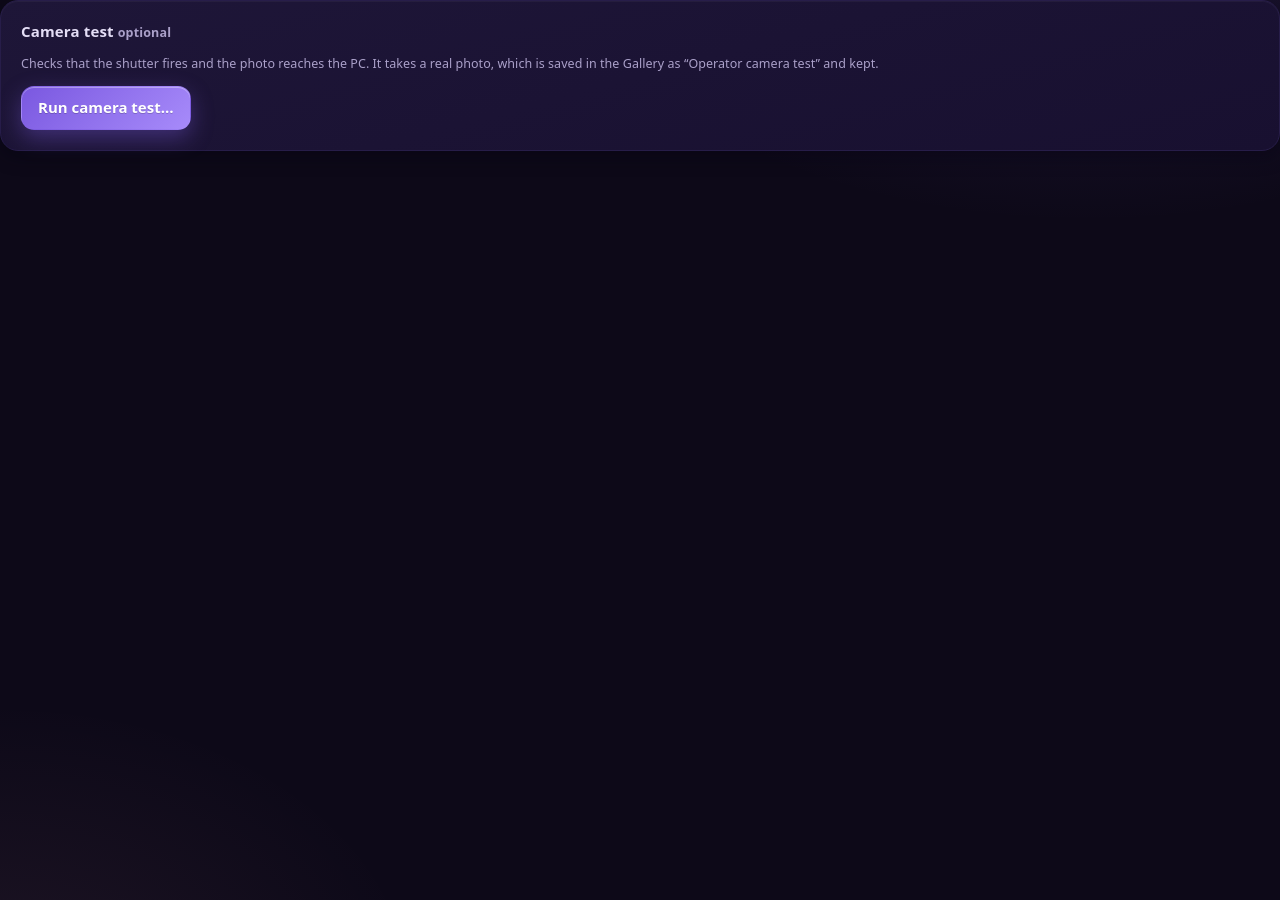
Test: camera test › tells the operator the shutter will fire, and does nothing until they agree
Later steps or results of the test are not shown.
What coordinates should you click on to do the following:
click the button "Run camera test…"
I would click on:
 (106, 108)
Its box is [21,86,190,130].
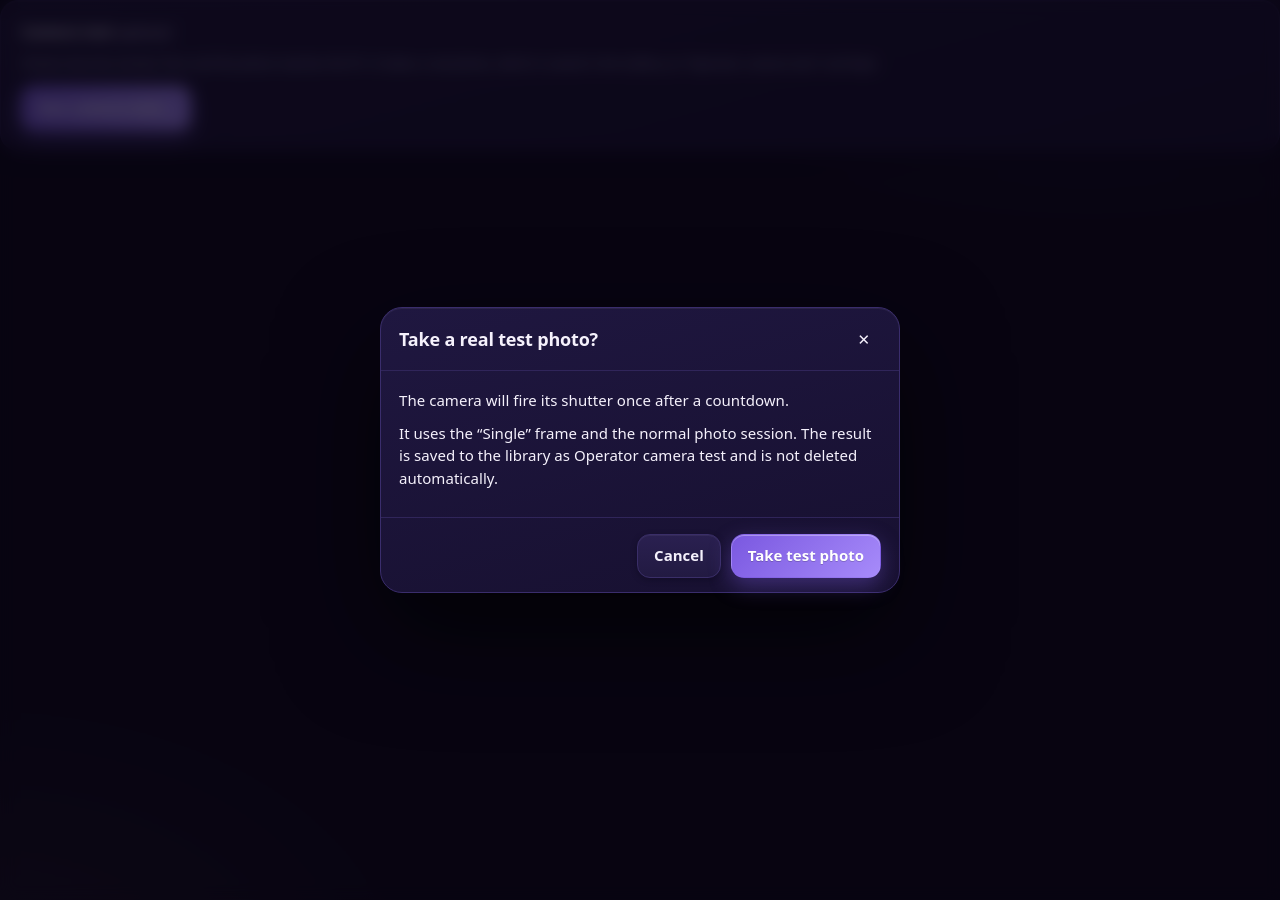
Now the dialog shows "will fire its shutter", box [399,390,789,410]
Now the dialog shows "Operator camera test", box [399,422,872,488]
